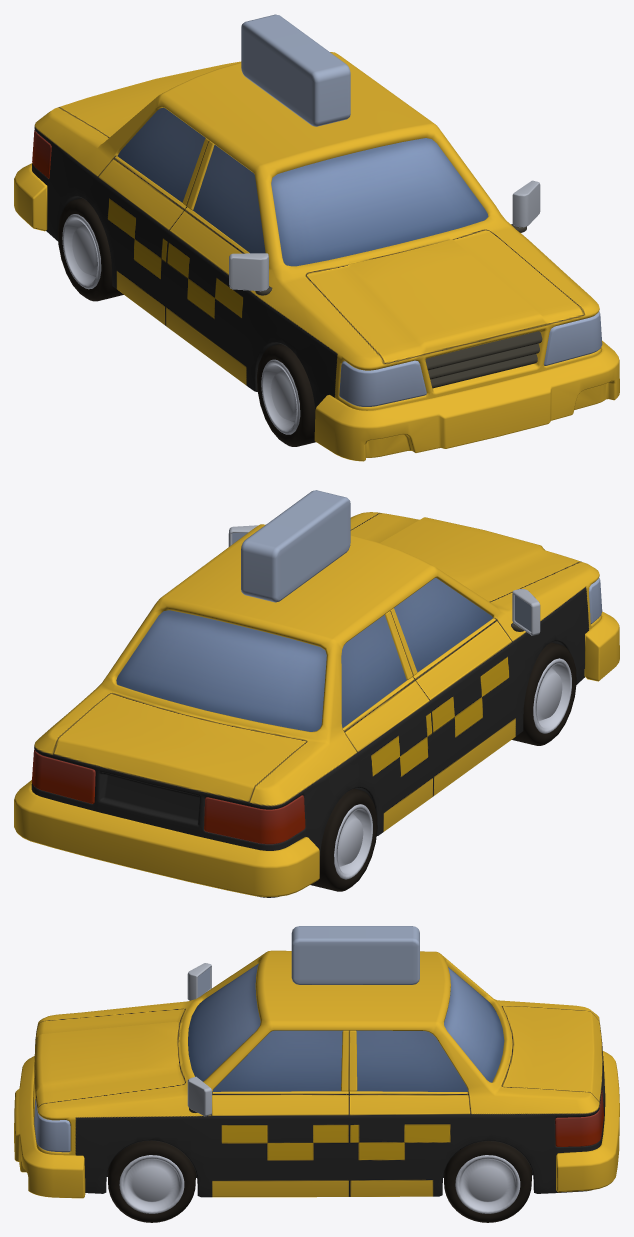
File: taxi.glb
The picture shows the model from 3 angles, top to bottom: view 1: azimuth 30°, elevation 25°; view 2: azimuth 150°, elevation 25°; view 3: azimuth 270°, elevation 25°; orthographic projection. The views are drawn at different scales.
Visible parts, largest first — view 1: icon_taxi_stylized_lod0; view 2: icon_taxi_stylized_lod0; view 3: icon_taxi_stylized_lod0.
Boxes of the visible parts, left/top/right/bottom form: icon_taxi_stylized_lod0: left=14, top=14, right=619, bottom=461; icon_taxi_stylized_lod0: left=14, top=490, right=619, bottom=897; icon_taxi_stylized_lod0: left=14, top=926, right=619, bottom=1222.
Size of the model in its own units: 0.1106 by 0.0952 by 0.2214.
Materials: 1 (1 with a texture image).
